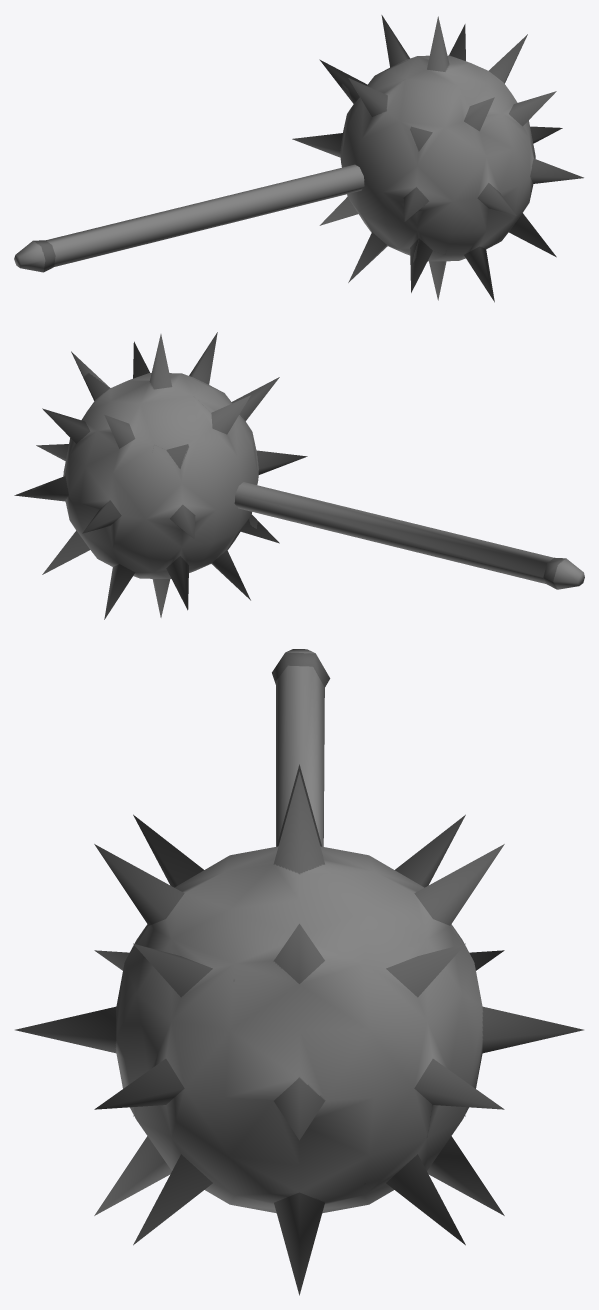
File: mace.obj
The picture shows the model from 3 angles, top to bottom: view 1: azimuth 30°, elevation 25°; view 2: azimuth 150°, elevation 25°; view 3: azimuth 270°, elevation 25°; orthographic projection. The views are drawn at different scales.
Parts seen in each view (by area): view 1: Cube; view 2: Cube; view 3: Cube.
Part boxes in pixels (x1,y1,x2,y2): Cube: [14, 15, 583, 302]; Cube: [14, 332, 584, 619]; Cube: [15, 649, 583, 1295].
Size of the model in its own units: 2 by 1 by 1.
